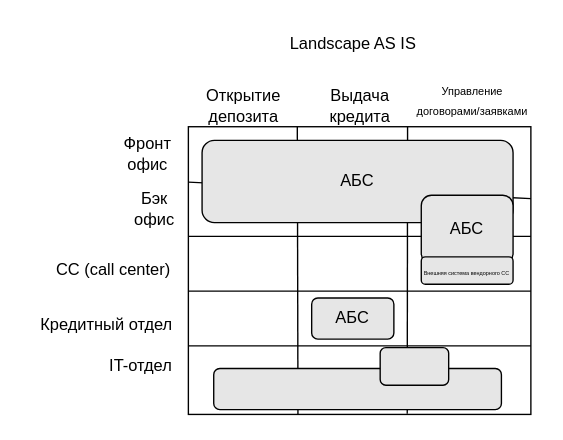
Some shapes in this 563 by 440 pixel diagram are drawn without their labels. The shapes that lost their labels are listed below. From the top down, each one's box as (x1, y1, x2, y2) in pixels, then its label:
(379, 346, 449, 385): SMS шлюз
(212, 367, 501, 410): Интернет-банк
